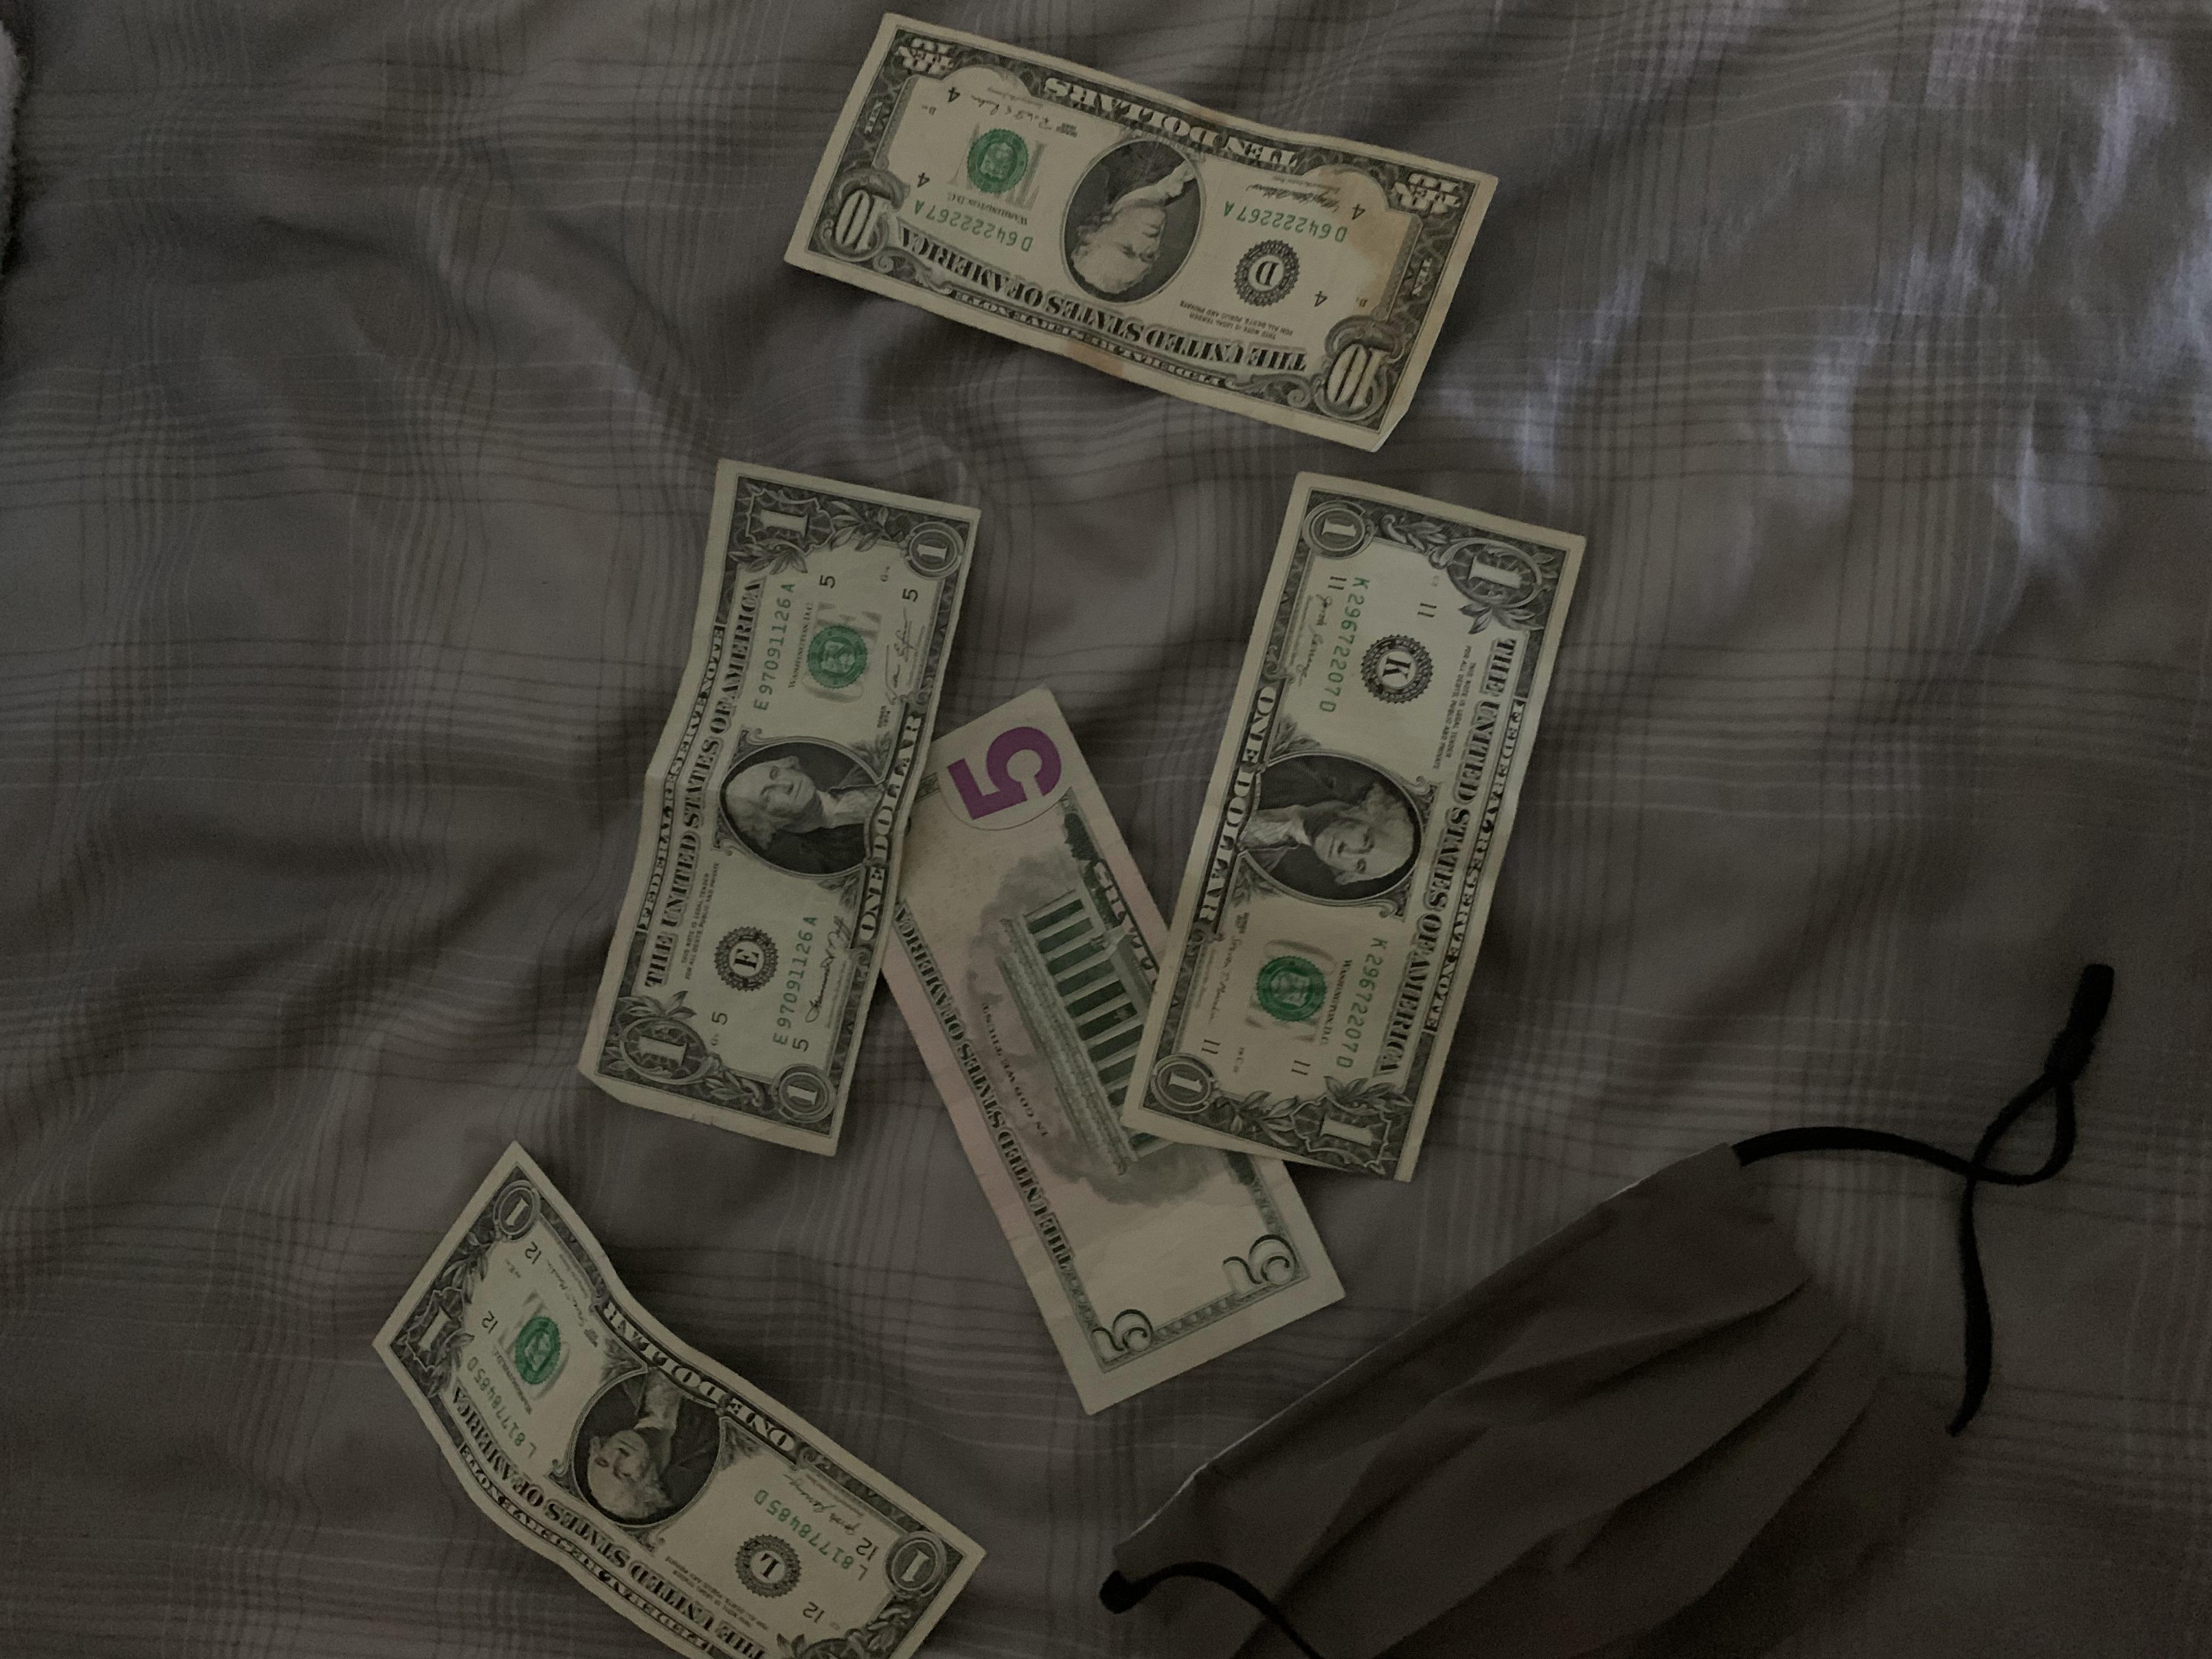FiveBill: (859, 685, 1350, 1412)
OneBill: (329, 1145, 991, 1656), (1122, 472, 1592, 1175), (582, 457, 972, 1159)
TenBill: (786, 7, 1498, 457)
